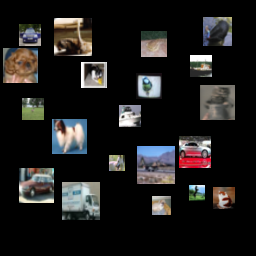airplane: (137, 146, 175, 184)
automobile: (19, 168, 54, 203), (179, 136, 211, 168), (19, 24, 41, 46)
bird: (54, 18, 92, 56), (203, 17, 232, 46), (136, 73, 162, 99), (22, 98, 44, 120)
cat: (200, 85, 235, 120), (213, 187, 235, 209)
dog: (52, 119, 87, 154), (3, 48, 38, 83), (81, 62, 107, 88), (152, 196, 171, 215), (109, 155, 125, 171)
frog: (141, 31, 167, 57)
ship: (119, 105, 141, 127), (190, 55, 212, 77)
